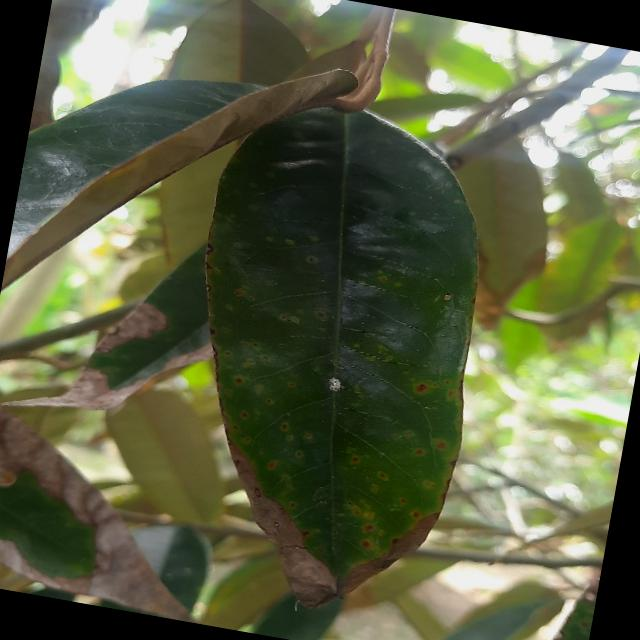Leaf Spot: (140, 80, 522, 639)
